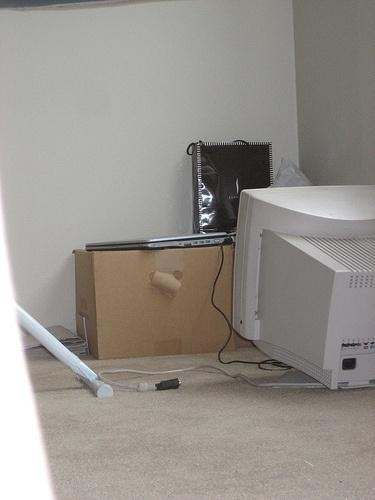tvmonitor: (230, 185, 375, 391)
